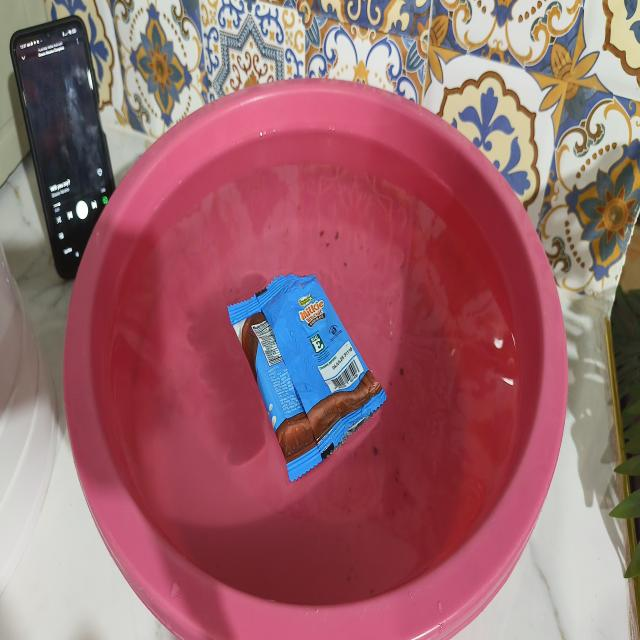Plastic Wrapper: (228, 274, 386, 481)
